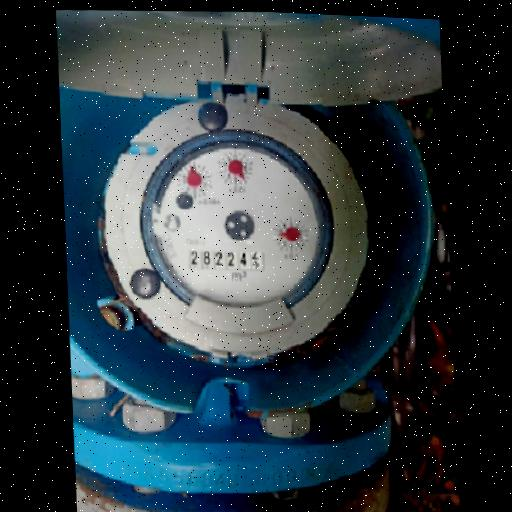2: (189, 250, 202, 267), (225, 250, 237, 268), (251, 252, 263, 269), (214, 251, 225, 269)
4: (238, 252, 251, 269)
8: (202, 249, 214, 268)
border_water_meter_number: (188, 246, 265, 272)
